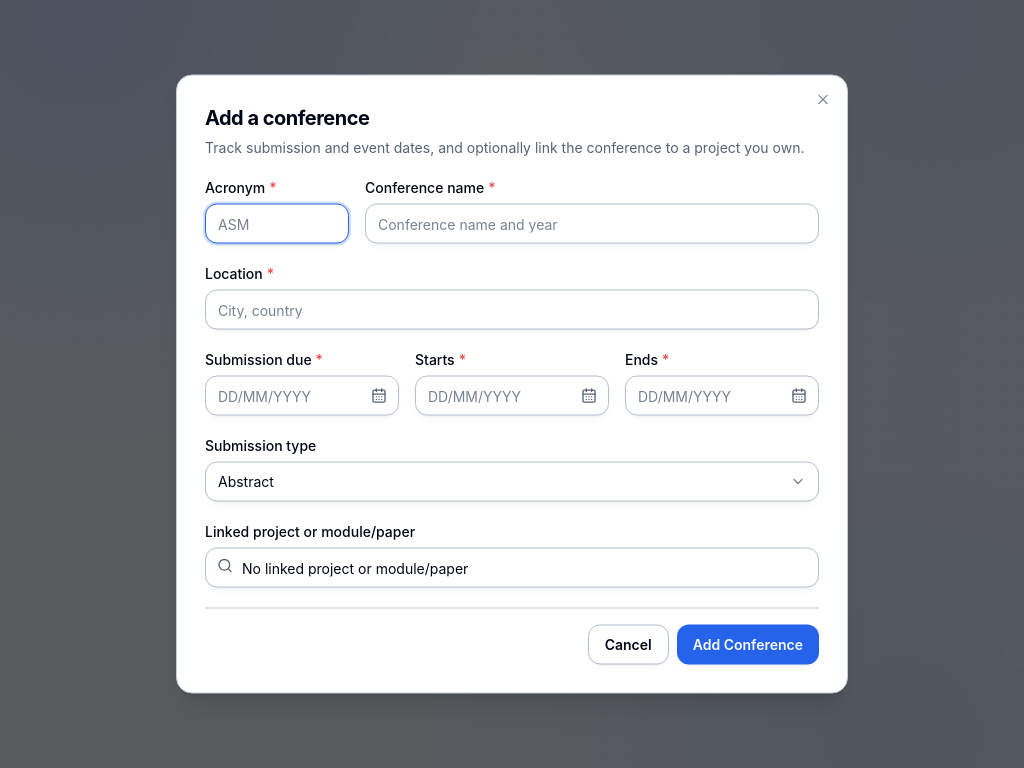
Test: ConferenceSubmissionDialog › filters the dropdown as you type
Replace the text in the dropdown labelled "Linked project or module/paper" with "grant" at [512, 568], box [205,548,819,588]
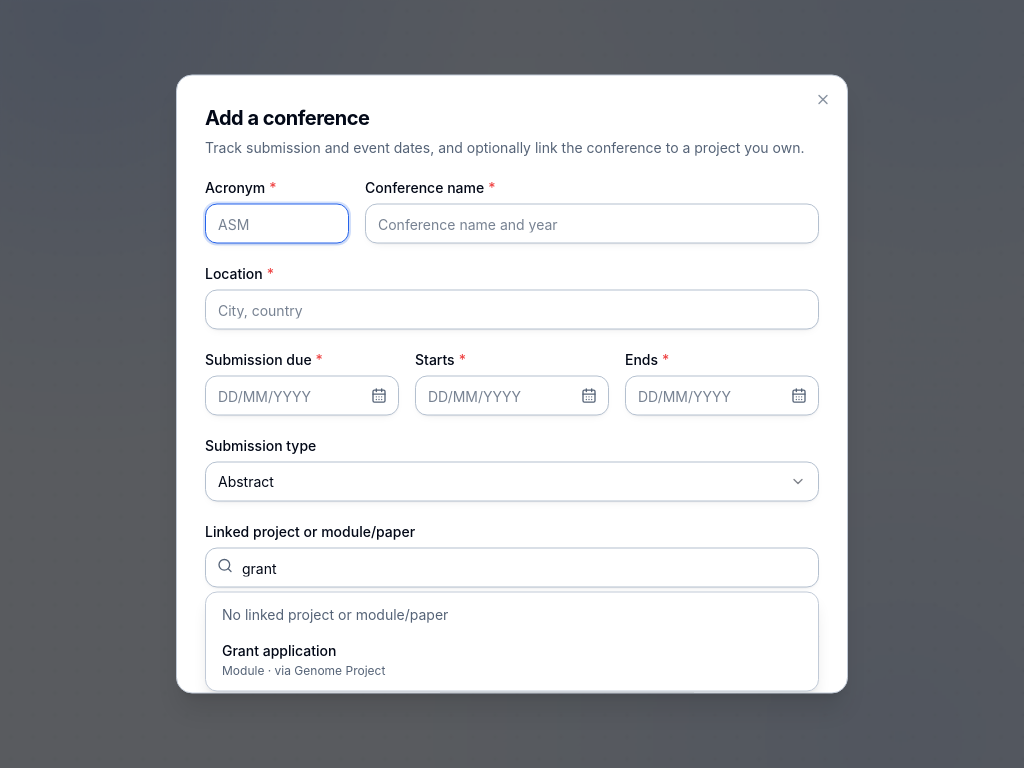
Expected: the option "Grant application Module · via Genome Project" is shown, [210,632,814,686]
